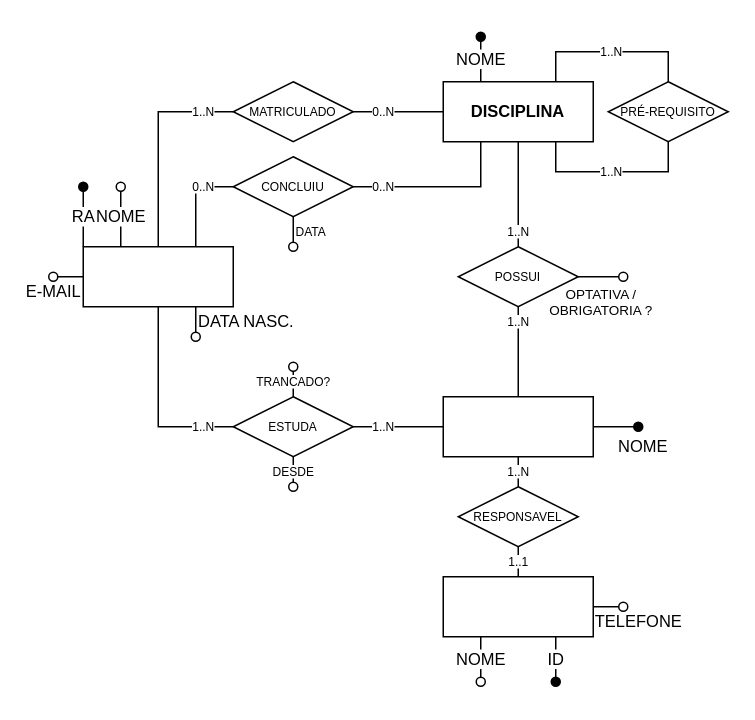
This 755x720 diagram has some shape labels left out. Each missing label, with the centre of its shape:
"ALUNO" belongs at (x=157, y=276).
"CURSO" belongs at (x=517, y=426).
"DEPARTAMENTO" belongs at (x=517, y=606).
